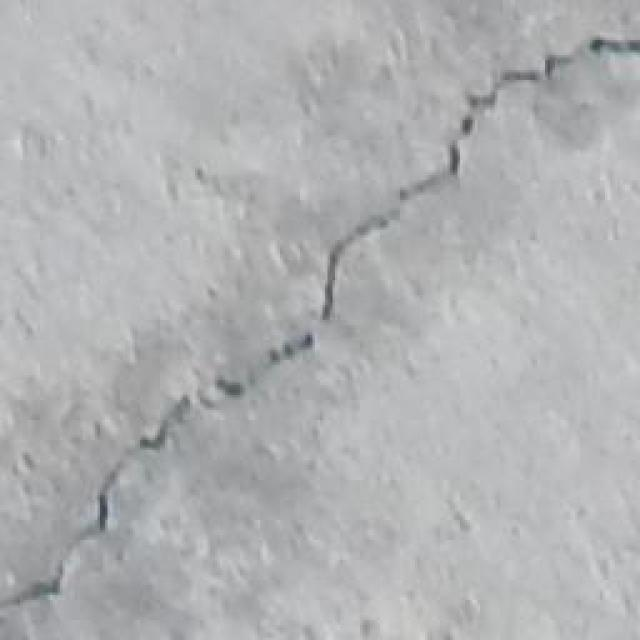concrete-crack: (0, 29, 640, 626)
